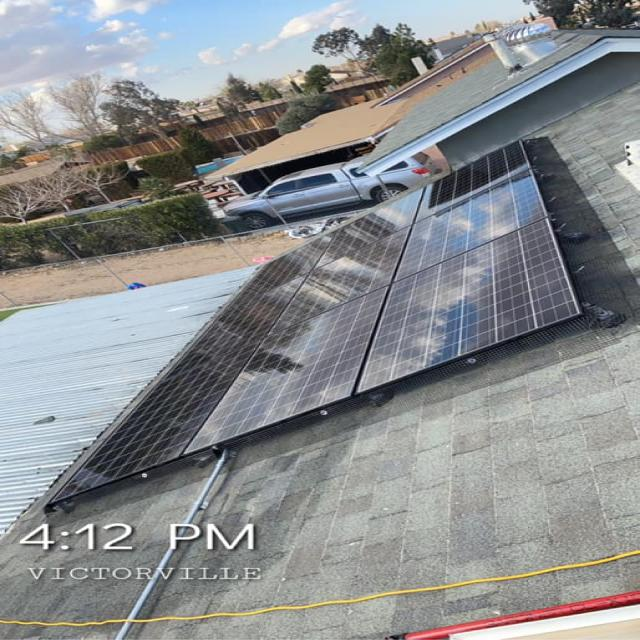clean-solar-panel: (361, 220, 579, 390)
